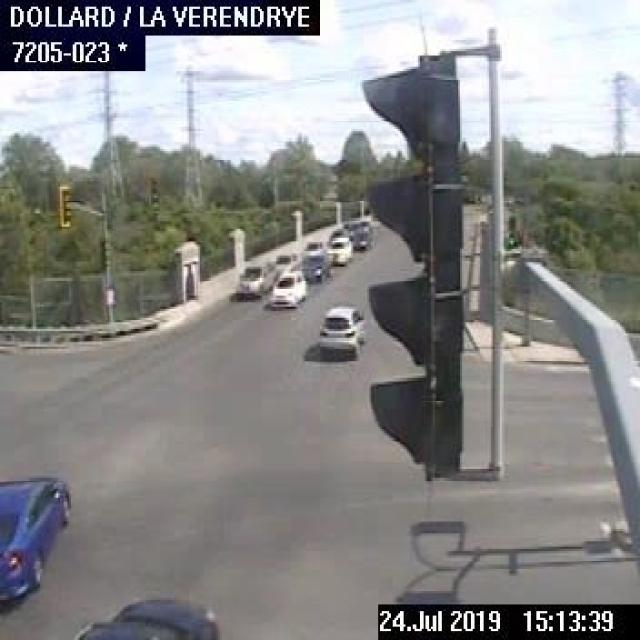vehicle: (0, 474, 71, 604), (71, 598, 218, 638), (318, 302, 366, 353), (268, 270, 306, 306), (233, 262, 270, 296), (299, 253, 329, 282), (327, 234, 348, 264), (348, 228, 370, 251), (272, 251, 299, 268), (302, 239, 324, 252)
